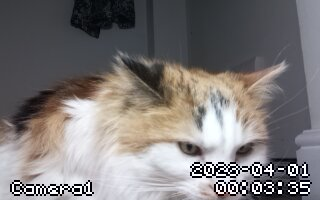clara: (11, 54, 288, 199)
